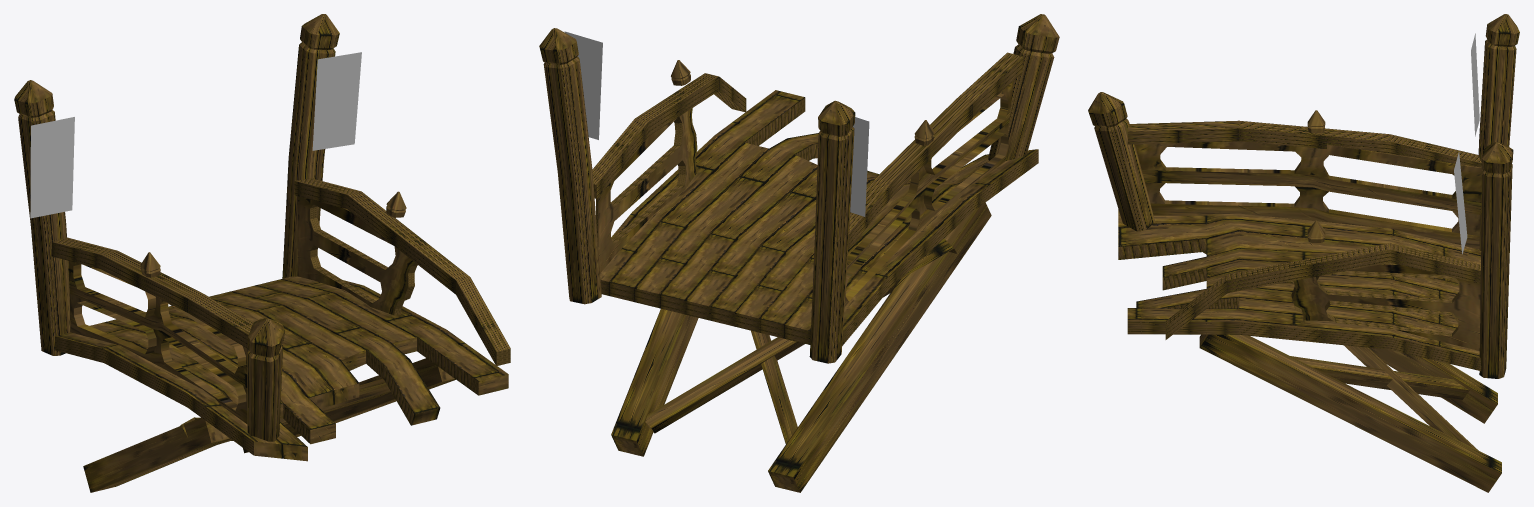
The model's file is BrokenBridge_Nord.fbx.
3 views of the same model, side by side, from view 1: azimuth 30°, elevation 25°; view 2: azimuth 150°, elevation 25°; view 3: azimuth 270°, elevation 25° (orthographic). The views are drawn at different scales.
Visible parts, largest first — view 1: polySurface44; view 2: polySurface44; view 3: polySurface44.
Part boxes in pixels (<box>): polySurface44: <box>14,14,510,492</box>; polySurface44: <box>539,14,1059,492</box>; polySurface44: <box>1088,14,1519,492</box>.
Size of the model in its own units: 6.8 by 8.45 by 8.78.
